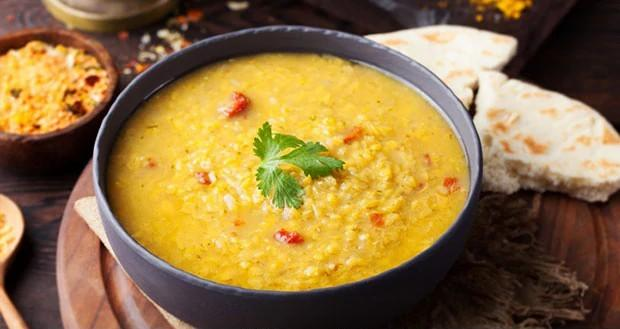Dal: (106, 53, 467, 290)
